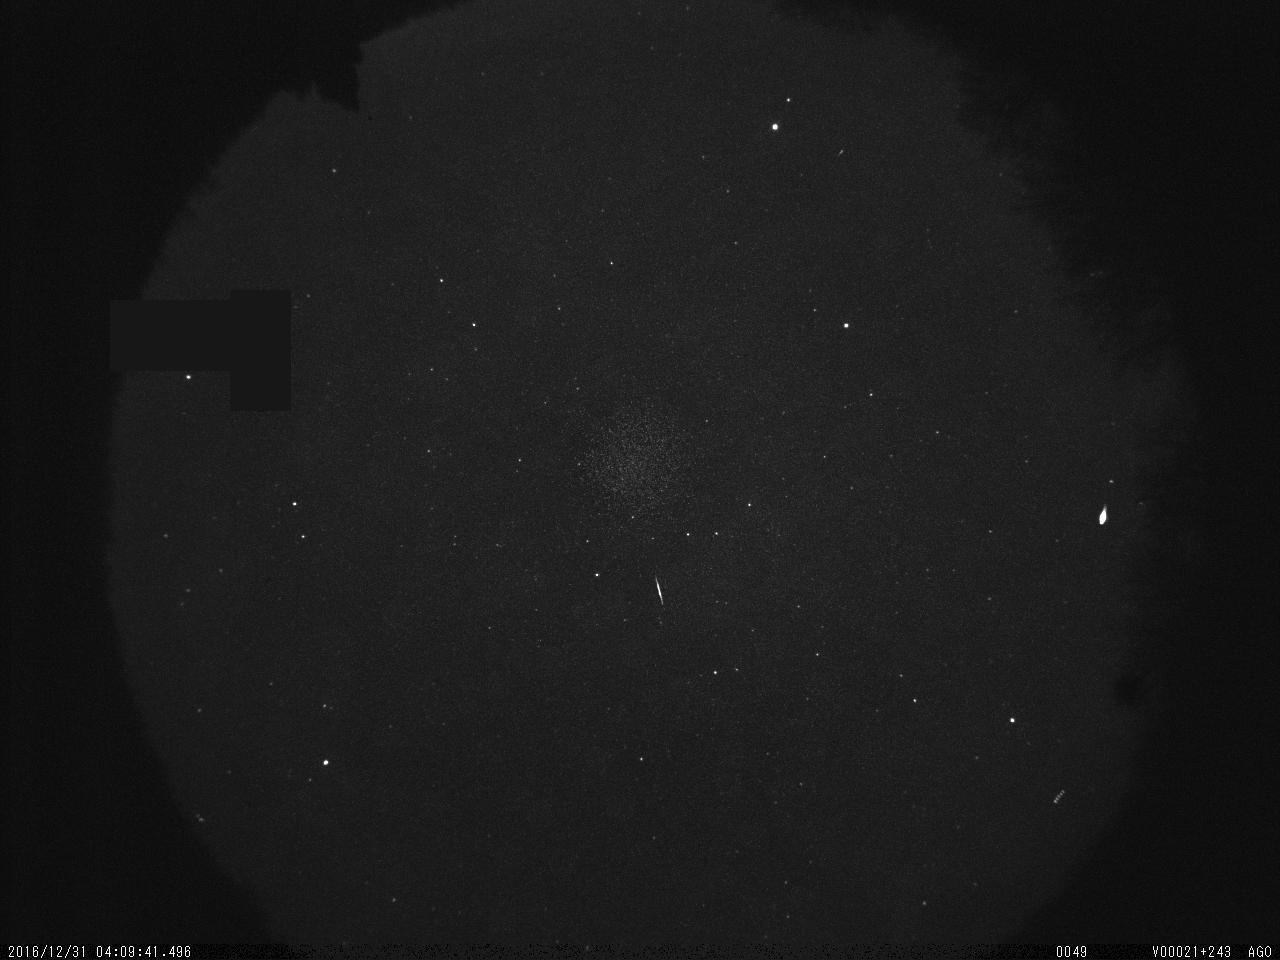meteor: (649, 569, 676, 614)
